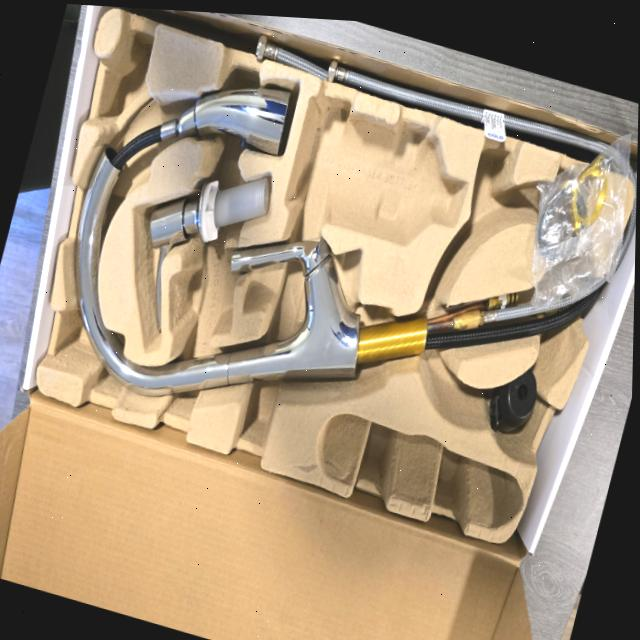1: (71, 83, 602, 396)
2: (149, 177, 269, 333)
3m: (285, 96, 468, 244)
4m: (315, 416, 522, 530)
5: (488, 372, 536, 433)
6: (531, 125, 632, 309)
7m: (451, 145, 526, 258)
